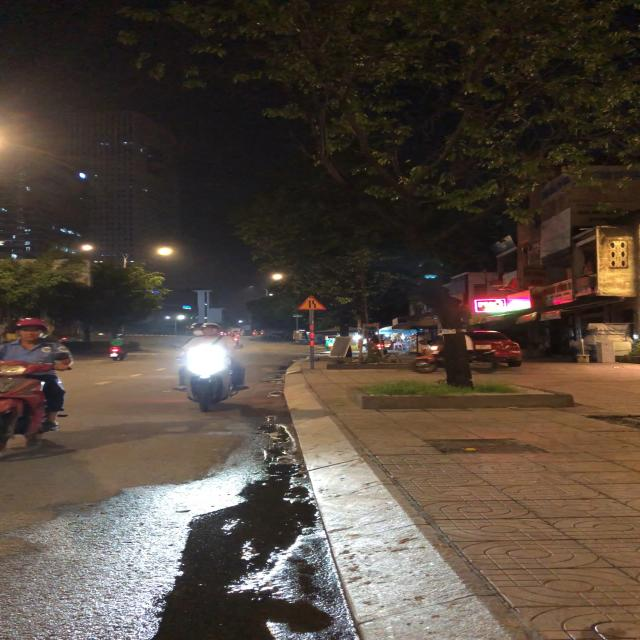Bien bao duong bi thu hep: (295, 293, 328, 311)
